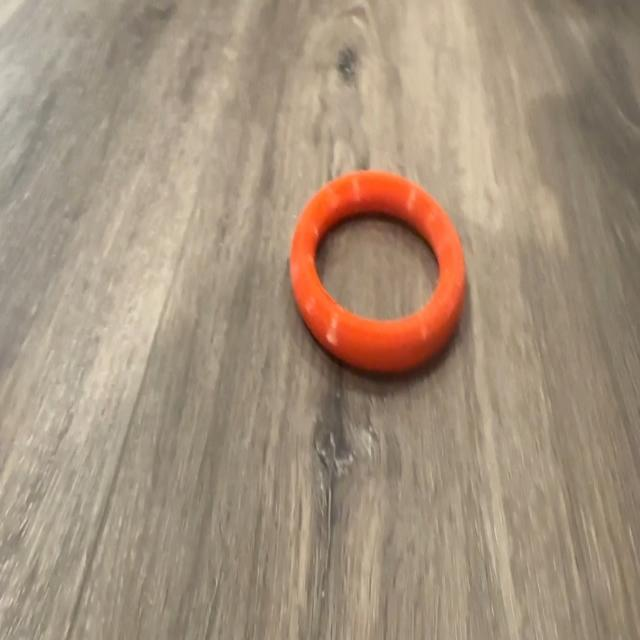note: (288, 170, 466, 377)
